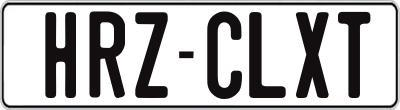C: (204, 10, 239, 99)
H: (43, 9, 76, 95)
L: (249, 9, 292, 100)
R: (89, 11, 124, 98)
T: (336, 12, 372, 99)
X: (295, 11, 334, 100)
Z: (133, 9, 169, 99)
